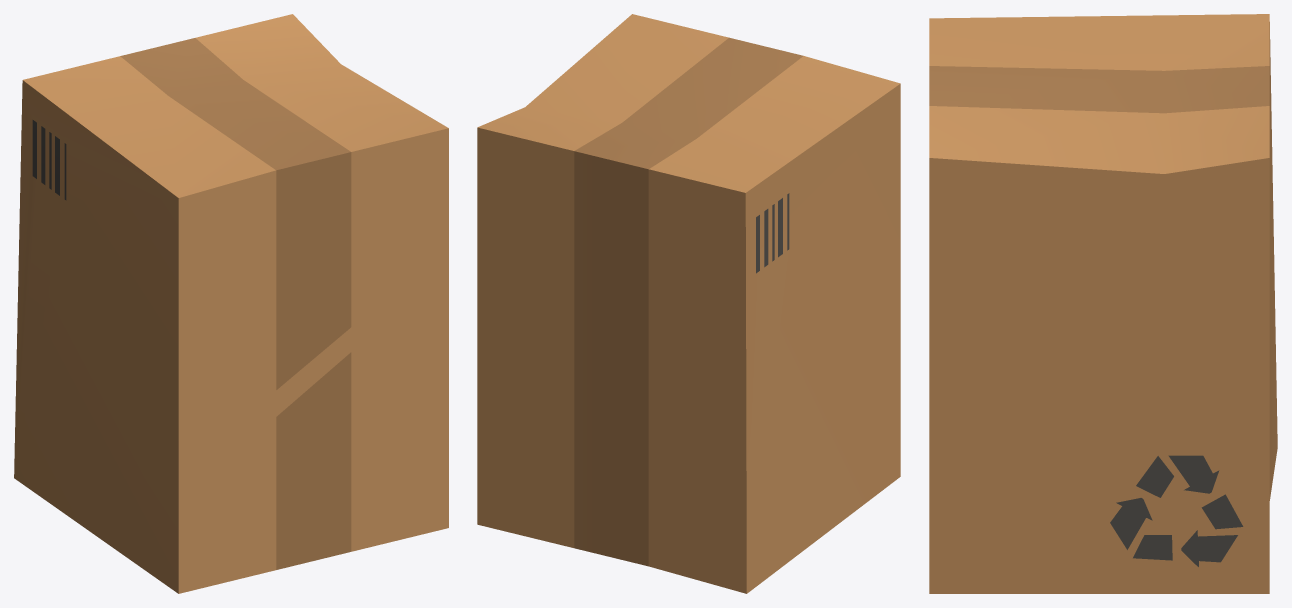
Rendered from CartonBox2.fbx.
The picture shows the model from 3 angles, left to right: view 1: azimuth 30°, elevation 25°; view 2: azimuth 150°, elevation 25°; view 3: azimuth 270°, elevation 25°; orthographic projection. The views are drawn at different scales.
Parts seen in each view (by area): view 1: Cardboard Box_3; view 2: Cardboard Box_3; view 3: Cardboard Box_3.
Boxes of the visible parts, <box> form: Cardboard Box_3: <box>14,14,448,593</box>; Cardboard Box_3: <box>477,14,900,593</box>; Cardboard Box_3: <box>929,14,1277,593</box>.
Bounding box in the file's own units: 50.39 × 69.99 × 50.69.
